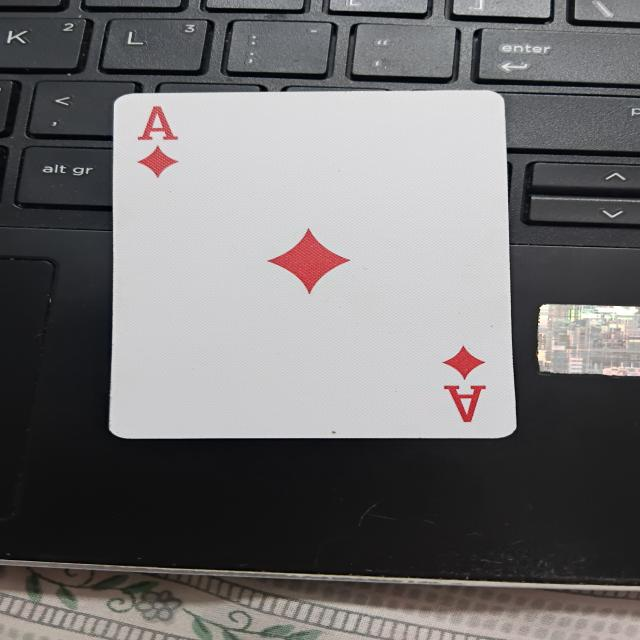AD: (114, 95, 518, 438)
